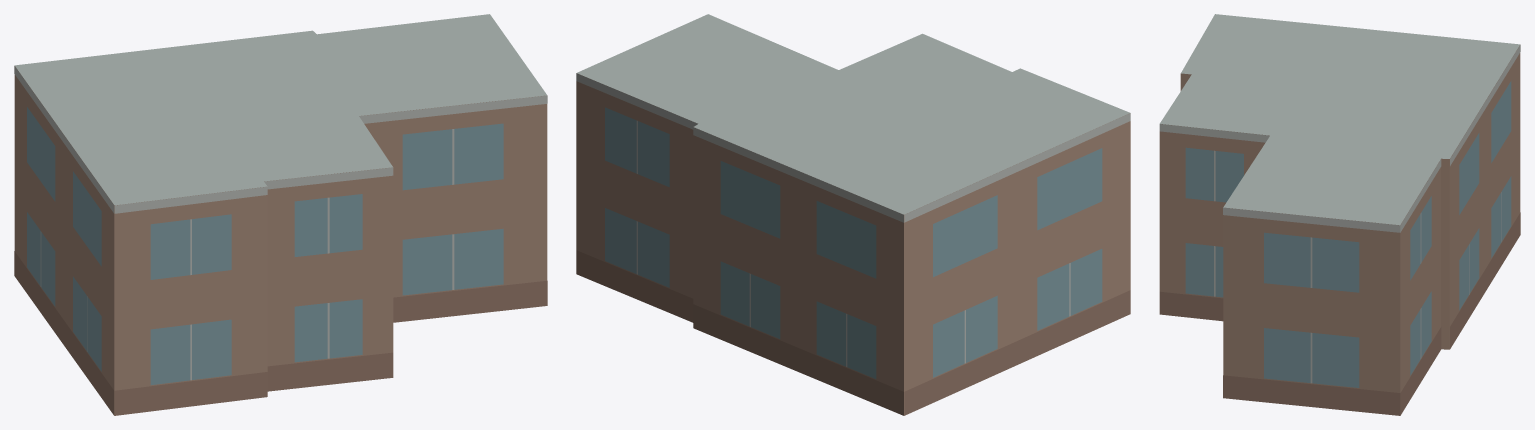
File: survey-upis-32506725.glb
3 views of the same model, side by side, from view 1: azimuth 30°, elevation 25°; view 2: azimuth 150°, elevation 25°; view 3: azimuth 270°, elevation 25° (orthographic). The views are drawn at different scales.
Visible parts, largest first — view 1: survey-upis-32506725.tmp; view 2: survey-upis-32506725.tmp; view 3: survey-upis-32506725.tmp.
Boxes of the visible parts, x1,y1,x2,y2 form: survey-upis-32506725.tmp: [14, 14, 547, 415]; survey-upis-32506725.tmp: [576, 14, 1130, 415]; survey-upis-32506725.tmp: [1159, 14, 1520, 415].
Bounding box in the file's own units: 14.5 × 6.1 × 10.47.
